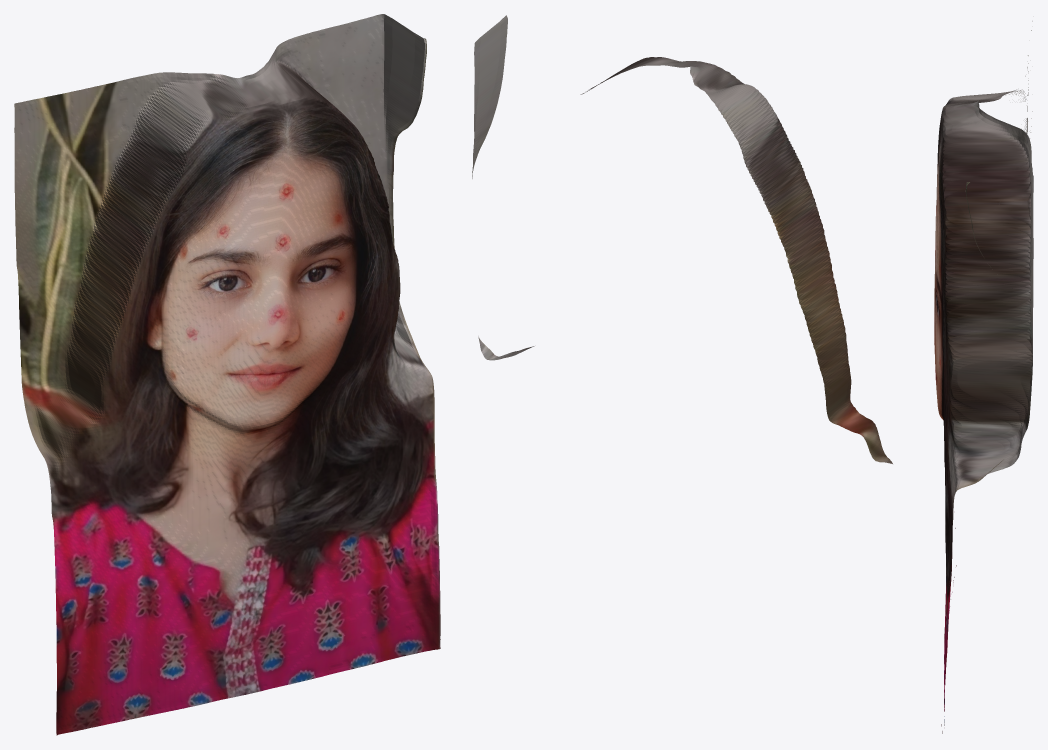
File: holo_depth_1410892592.glb
3 views of the same model, side by side, from view 1: azimuth 30°, elevation 25°; view 2: azimuth 150°, elevation 25°; view 3: azimuth 270°, elevation 25° (orthographic). The views are drawn at different scales.
Parts seen in each view (by area): view 1: world; view 2: world; view 3: world.
Part boxes in pixels (x1=…): world: x1=14, y1=14, x2=440, y2=735; world: x1=472, y1=15, x2=892, y2=463; world: x1=934, y1=21, x2=1033, y2=733.
Bounding box in the file's own units: 0.6536 × 0.9991 × 0.1626.
1 material, 1 textured.
